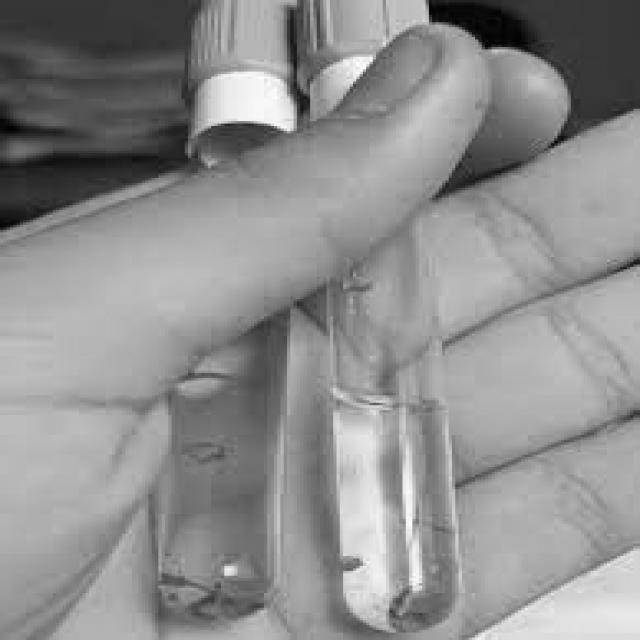larvas: (188, 579, 230, 620), (162, 572, 214, 596), (388, 587, 418, 624), (231, 588, 266, 616), (186, 439, 230, 461)
